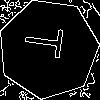T: (23, 24, 73, 61)
